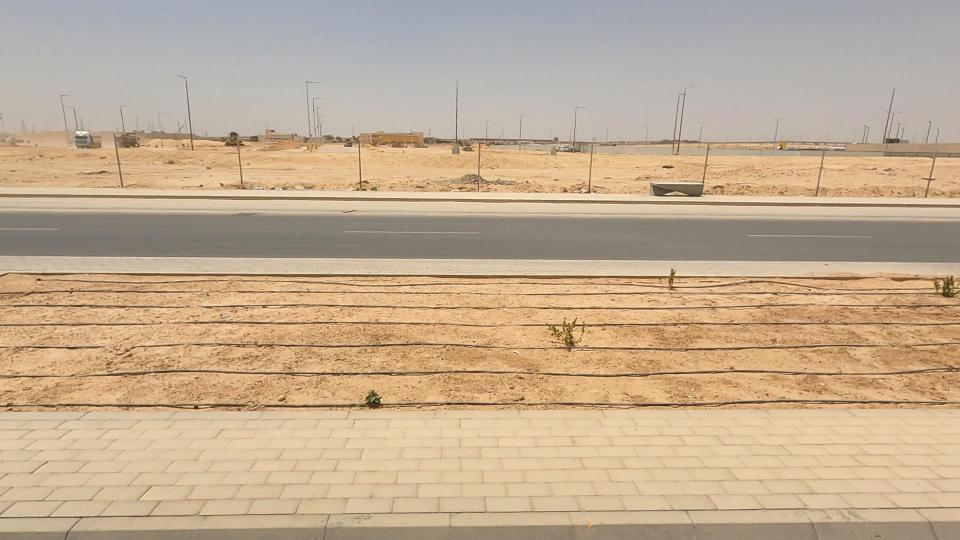CLUTTER_SIDEWALK: (321, 210, 960, 458), (0, 181, 564, 454)
